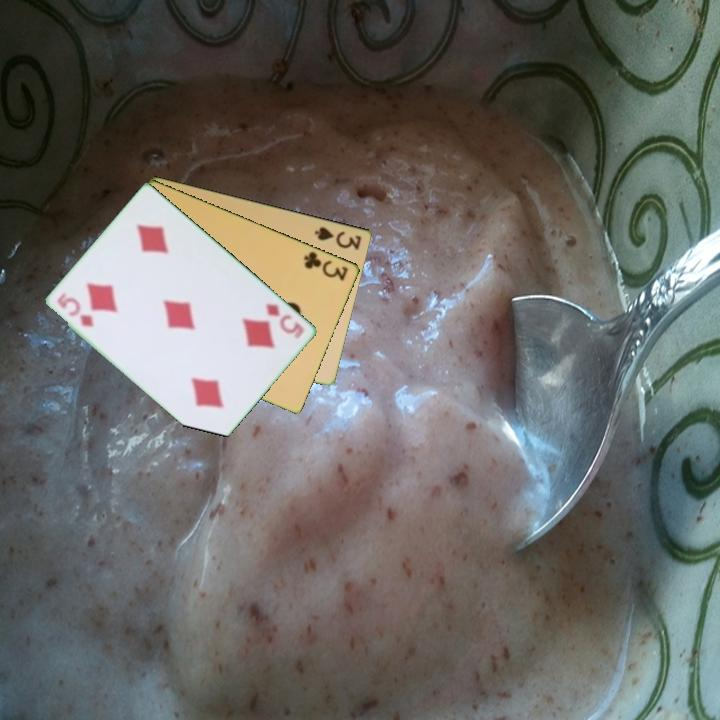3c: (300, 248, 351, 284)
3s: (311, 223, 365, 253)
5d: (263, 299, 308, 342), (54, 289, 97, 330)
